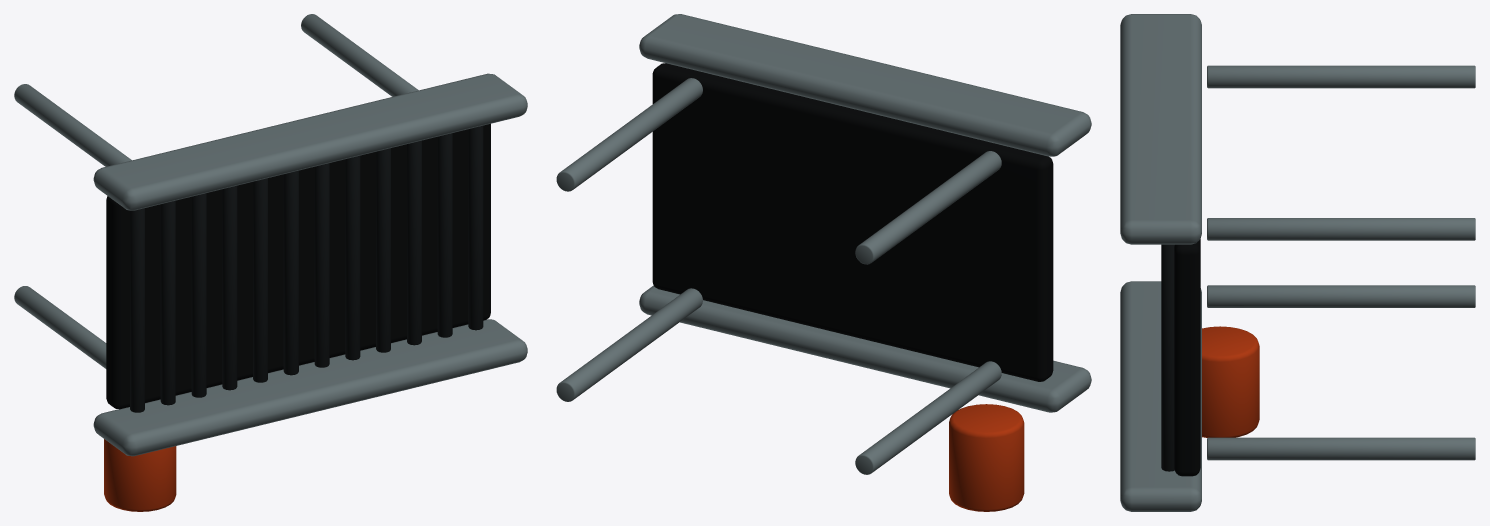
File: SM_FishingConveyor.obj
The picture shows the model from 3 angles, left to right: view 1: azimuth 30°, elevation 25°; view 2: azimuth 150°, elevation 25°; view 3: azimuth 270°, elevation 25°; orthographic projection. The views are drawn at different scales.
Visible parts, largest first — view 1: SM_FishingConveyor; view 2: SM_FishingConveyor; view 3: SM_FishingConveyor.
Boxes of the visible parts, box(x1,y1,x2,y2) form: SM_FishingConveyor: box(14, 14, 527, 511); SM_FishingConveyor: box(556, 14, 1091, 511); SM_FishingConveyor: box(1120, 14, 1475, 511).
Bounding box in the file's own units: 155 × 129 × 108.
